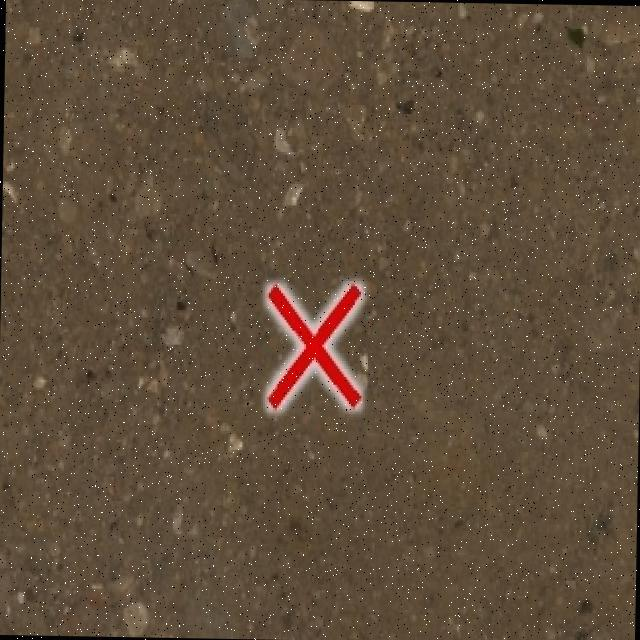x_marker: (266, 284, 360, 408)
